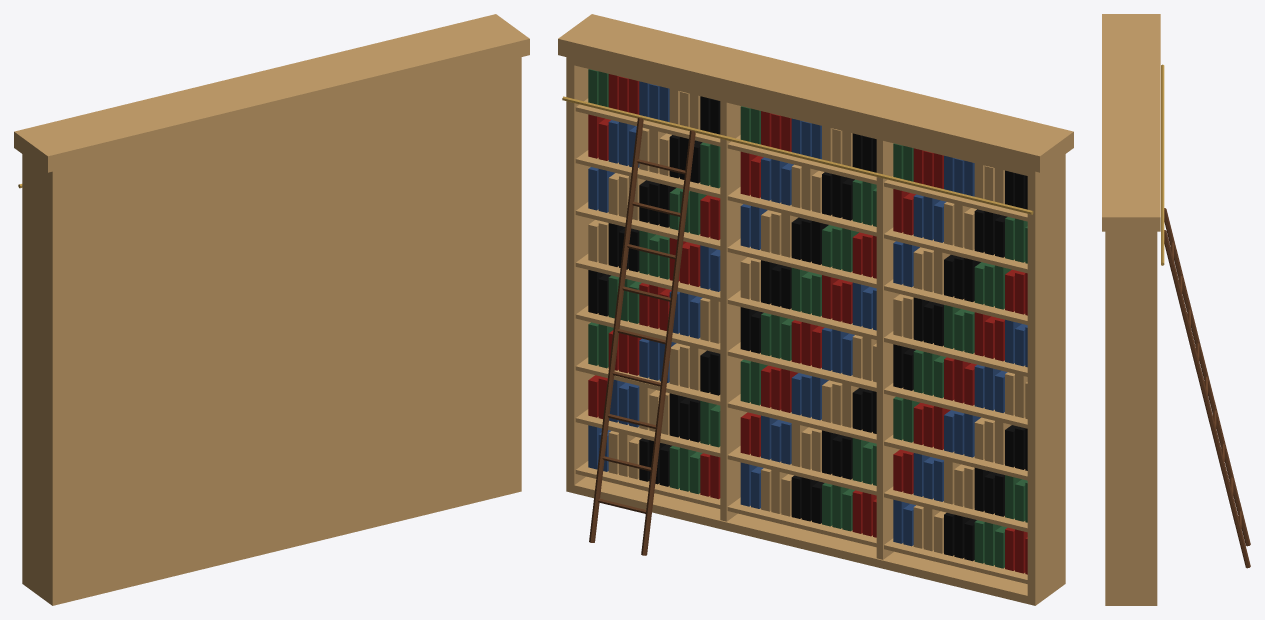
The model's file is home.mansion.library_wall.glb.
The picture shows the model from 3 angles, left to right: view 1: azimuth 30°, elevation 25°; view 2: azimuth 150°, elevation 25°; view 3: azimuth 270°, elevation 25°; orthographic projection. The views are drawn at different scales.
Parts seen in each view (by area): view 1: main__glulam; view 2: main__glulam, main__leather_black, main__fabric_blue, main__fabric_green, main__fabric_red, ladder__hardwood, ladder__brass; view 3: main__glulam, ladder__hardwood, ladder__brass.
Part boxes in pixels (box(x1,y1,x2,y2)): main__glulam: box(14, 14, 529, 605); main__glulam: box(558, 14, 1073, 605); main__leather_black: box(588, 96, 1027, 561); main__fabric_blue: box(588, 81, 1027, 546); main__fabric_green: box(588, 69, 1027, 568); main__fabric_red: box(588, 74, 1027, 574); ladder__hardwood: box(589, 117, 695, 555); ladder__brass: box(562, 96, 1033, 214); main__glulam: box(1102, 14, 1160, 605); ladder__hardwood: box(1164, 208, 1250, 568); ladder__brass: box(1161, 64, 1164, 265).
Size of the model in its own units: 3.7 by 3.32 by 1.14.
